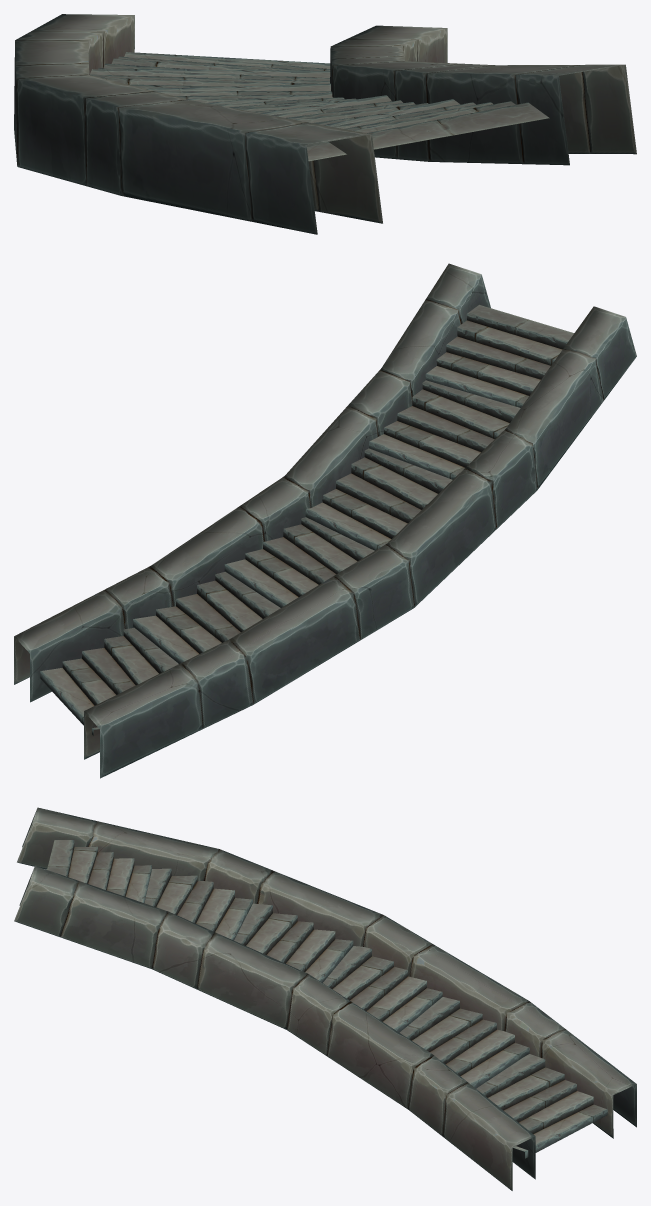
Rendered from SM_Stair_Merged_02.glb.
The picture shows the model from 3 angles, top to bottom: view 1: azimuth 30°, elevation 25°; view 2: azimuth 150°, elevation 25°; view 3: azimuth 270°, elevation 25°; orthographic projection. The views are drawn at different scales.
Parts seen in each view (by area): view 1: SM_Stair_Merged_02; view 2: SM_Stair_Merged_02; view 3: SM_Stair_Merged_02.
Boxes of the visible parts, x1,y1,x2,y2 form: SM_Stair_Merged_02: (14,14,636,234); SM_Stair_Merged_02: (14,263,636,778); SM_Stair_Merged_02: (14,807,636,1190).
Bounding box in the file's own units: 11.69 × 8.44 × 19.71.
2 materials, 2 textured.
